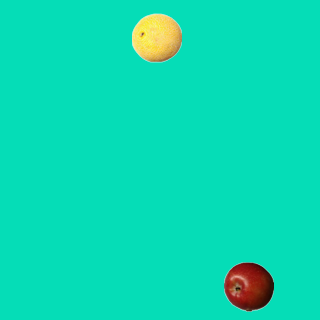Apple Braeburn: (223, 261, 273, 311)
Cantaloupe 1: (131, 12, 181, 62)
